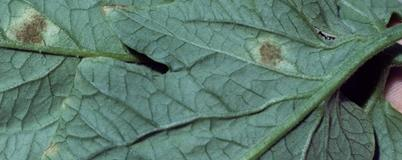Tomato mold leaf: (0, 0, 402, 160), (0, 0, 379, 160)
